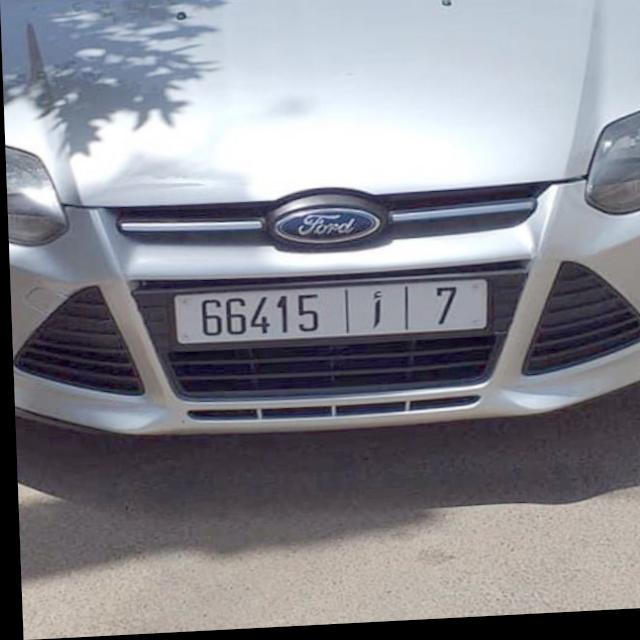License-Plate: (172, 285, 485, 347)
